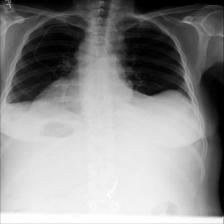normal: (1, 11, 199, 109)
